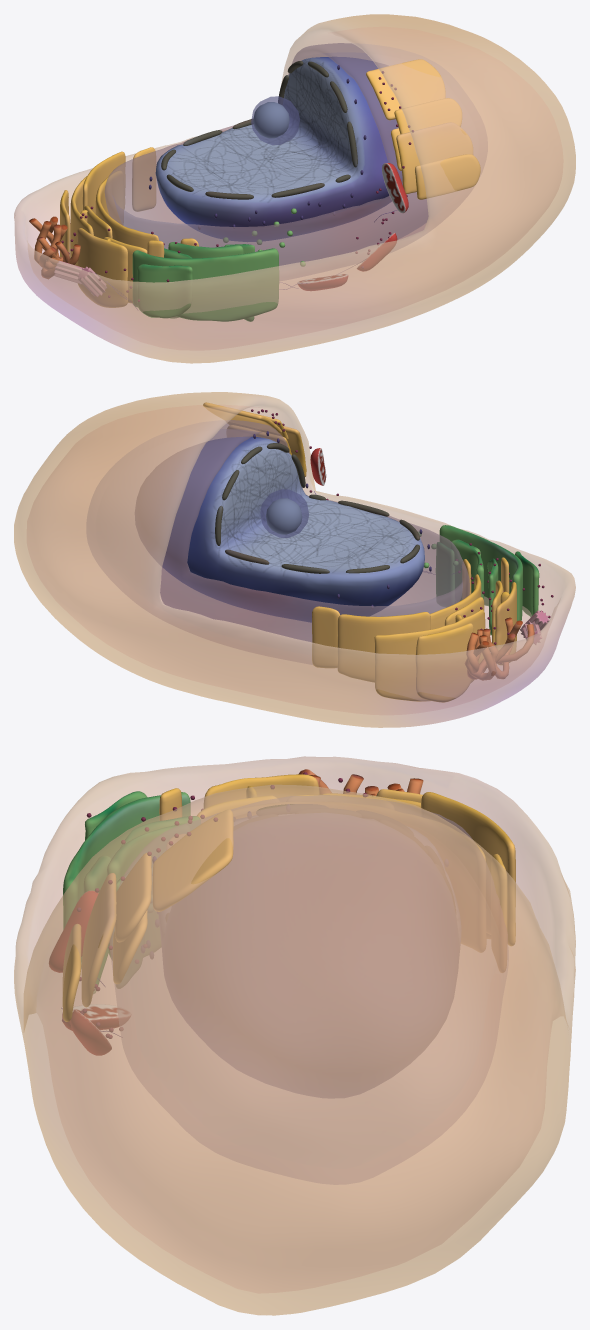
File: lysosome.glb
3 views of the same model, one above another, from view 1: azimuth 30°, elevation 25°; view 2: azimuth 150°, elevation 25°; view 3: azimuth 270°, elevation 25° (orthographic). The views are drawn at different scales.
Visible parts, largest first — view 1: Object005_op_0, Line011, Object001_all_0, Box008, Box007, Box019_all_0, Box020_all_0, Box009_all_0, Cylinder001_all_0; view 2: Object005_op_0, Line011, Object001_all_0, Box008, Box007, Box019_all_0; view 3: Object005_op_0, Line011, Box019_all_0, Box009_all_0, Box020_all_0.
Boxes of the visible parts, bbox=[...] form: Object005_op_0: bbox=[14, 14, 575, 363]; Line011: bbox=[29, 57, 480, 321]; Object001_all_0: bbox=[161, 61, 357, 199]; Box008: bbox=[251, 96, 299, 144]; Box007: bbox=[253, 102, 289, 138]; Box019_all_0: bbox=[382, 163, 408, 213]; Box020_all_0: bbox=[297, 274, 347, 290]; Box009_all_0: bbox=[357, 233, 397, 271]; Cylinder001_all_0: bbox=[77, 266, 106, 296]; Object005_op_0: bbox=[14, 392, 575, 727]; Line011: bbox=[162, 402, 541, 702]; Object001_all_0: bbox=[215, 443, 419, 573]; Box008: bbox=[260, 489, 308, 537]; Box007: bbox=[266, 498, 302, 534]; Box019_all_0: bbox=[310, 448, 326, 485]; Object005_op_0: bbox=[14, 756, 575, 1315]; Line011: bbox=[62, 769, 515, 1021]; Box019_all_0: bbox=[49, 890, 98, 972]; Box009_all_0: bbox=[70, 1010, 111, 1055]; Box020_all_0: bbox=[62, 1004, 119, 1030].
Size of the model in its own units: 3.02 by 1.57 by 1.67.
Materials: 2 (2 with a texture image).
